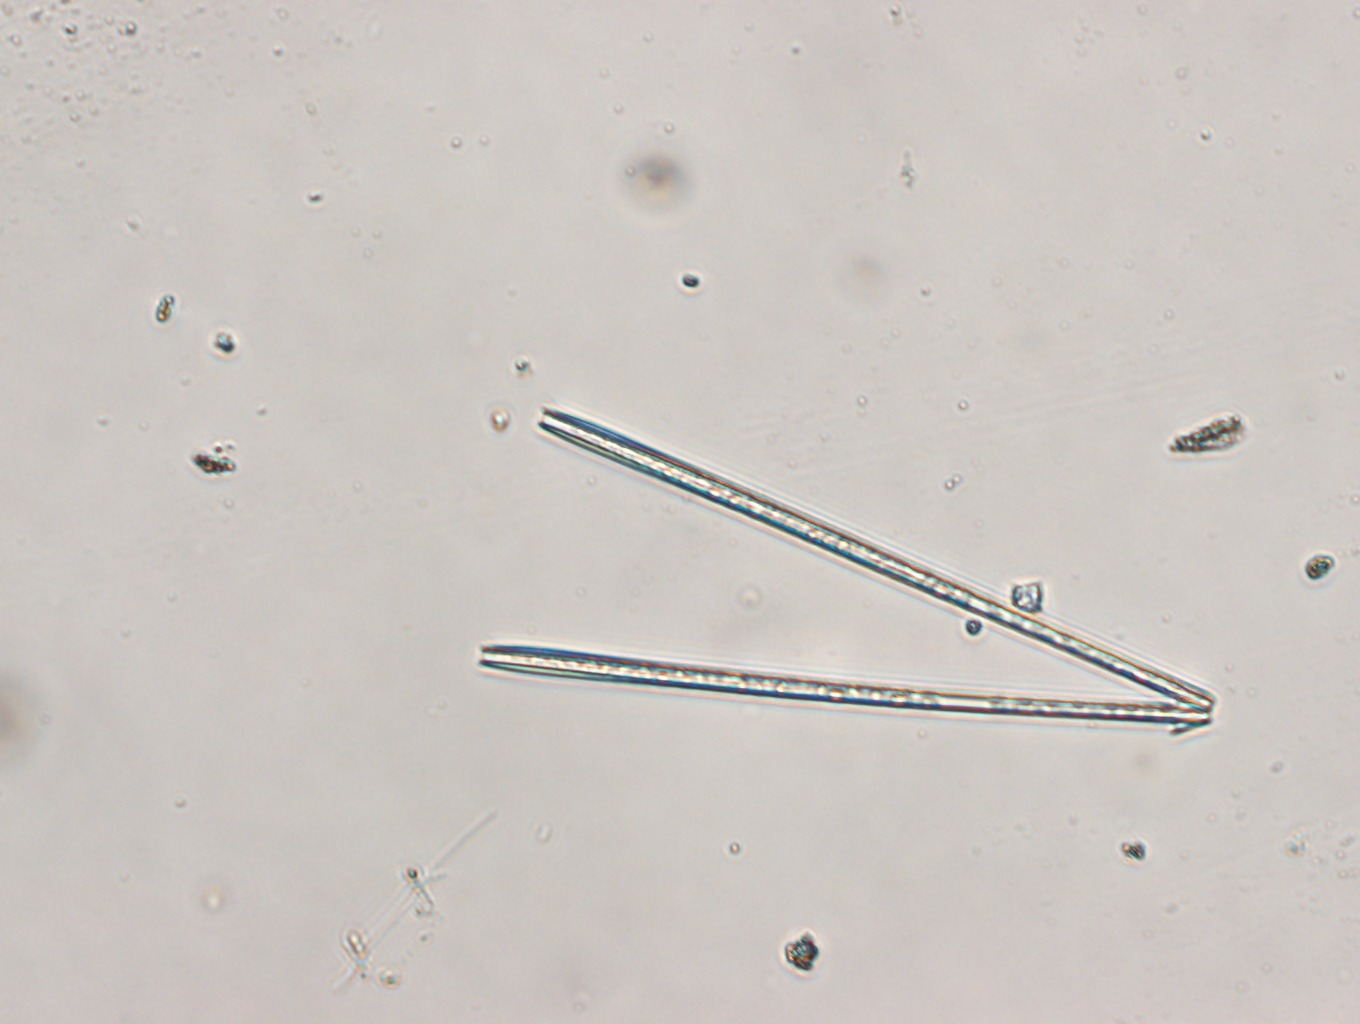thalassionema frauenfeldii: (475, 403, 1213, 725)
